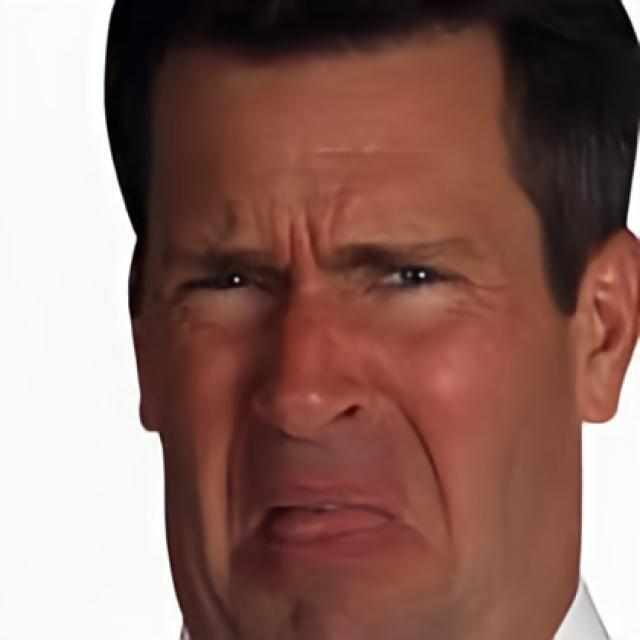disgust: (140, 21, 575, 640)
